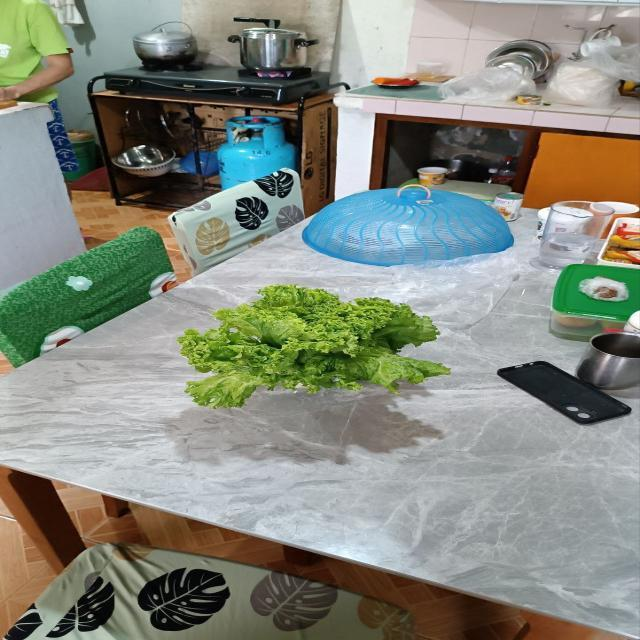Lettuce-Ready-to-Harvest: (177, 284, 447, 415)
